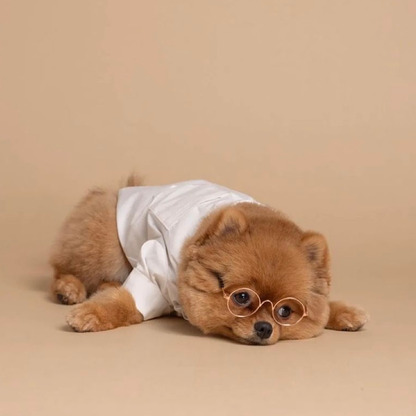Pomeranian: (42, 151, 378, 363)
